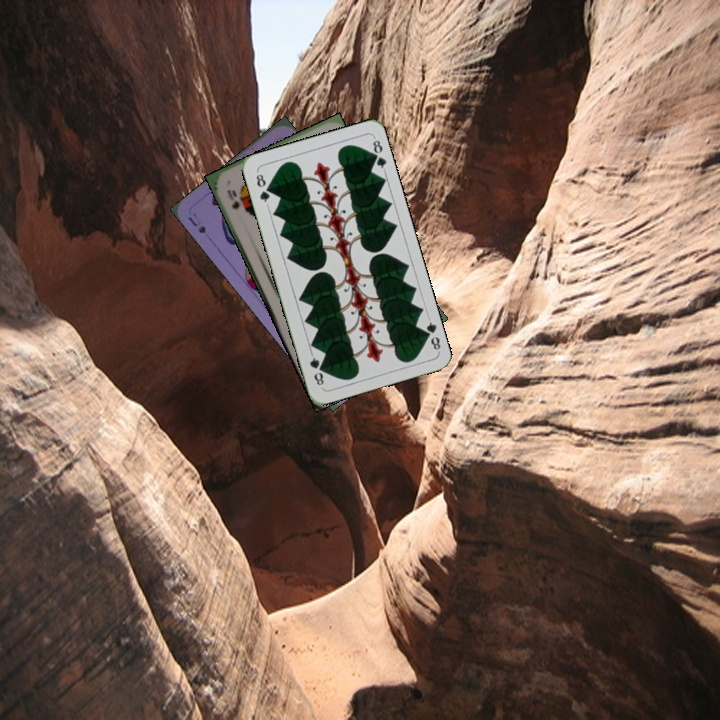G8: (418, 314, 443, 354), (252, 168, 272, 208)
SO: (223, 185, 242, 212)
SU: (184, 209, 209, 236)
